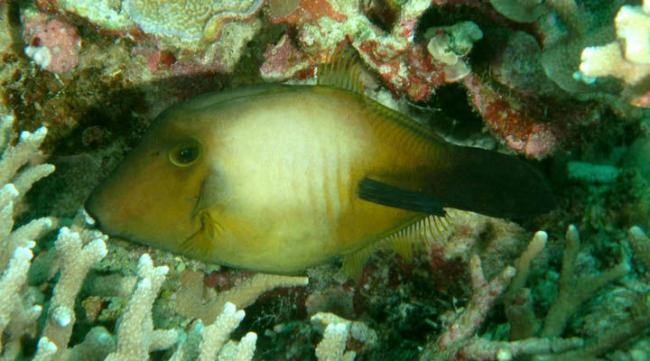fish: (86, 83, 549, 275)
